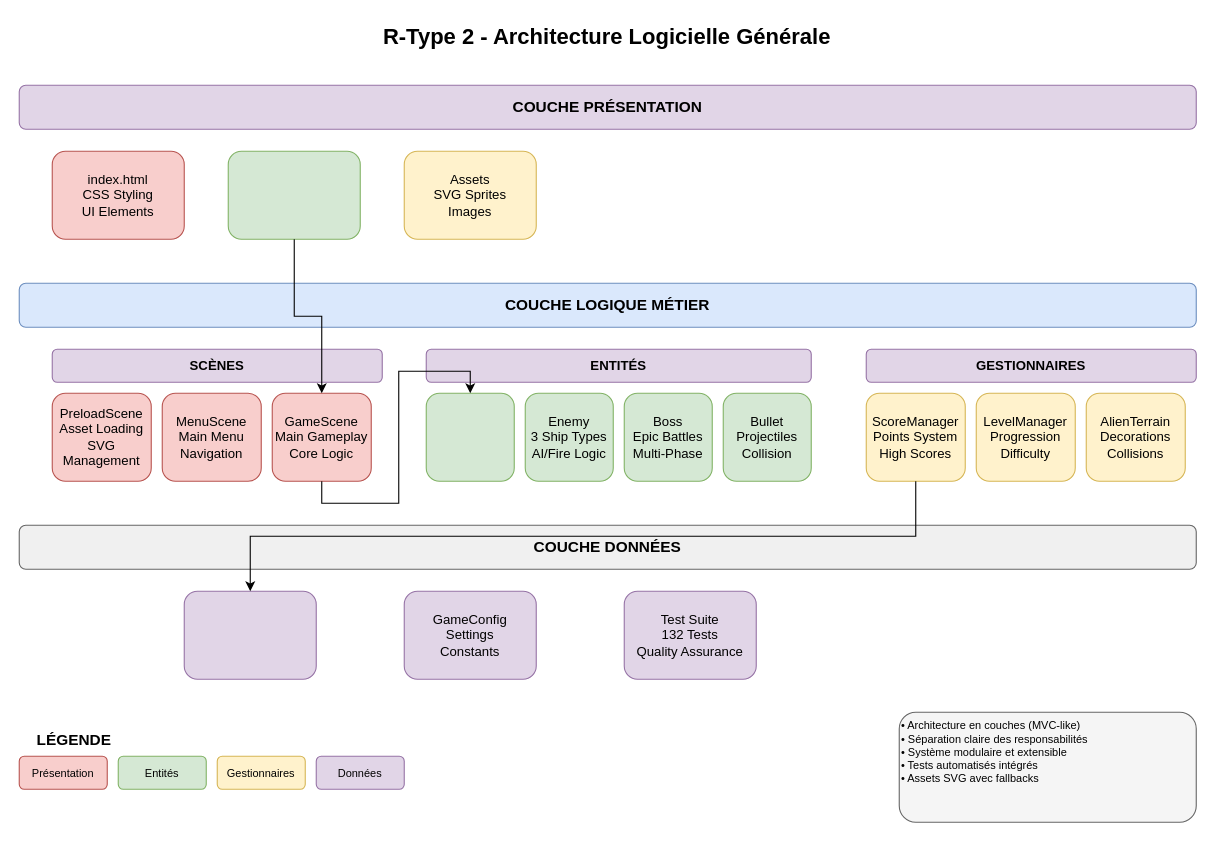
The diagram is 1216 pixels wide and 842 high, and some of its shapes have lost their labels. The shapes that lost their labels are listed below. From the top down, each one's box as (x1, y1, x2, y2) in pixels, then its label:
(227, 150, 360, 239): Phaser.js 3.70.0 Game Engine Canvas Rendering
(425, 392, 514, 481): Player DeLorean Ship Movement/Fire
(183, 590, 316, 679): LocalStorage High Scores Game Stats
